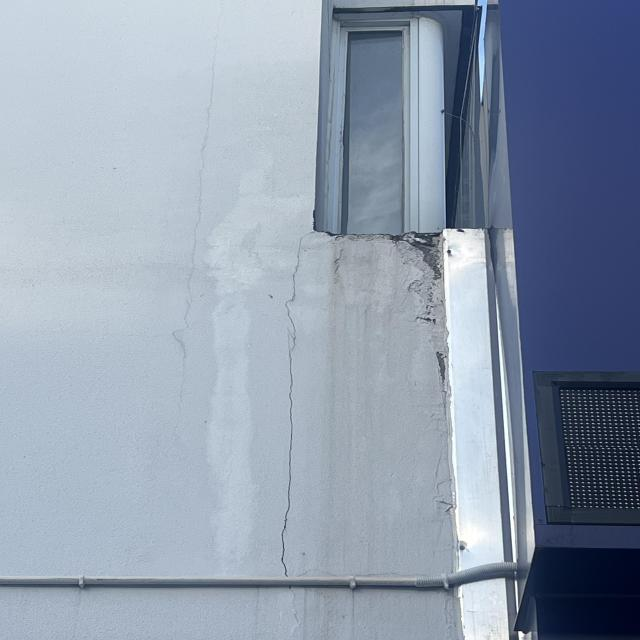crack: (274, 229, 319, 576), (163, 4, 202, 390)
damp: (205, 146, 267, 580)
spalling: (361, 236, 454, 430)
